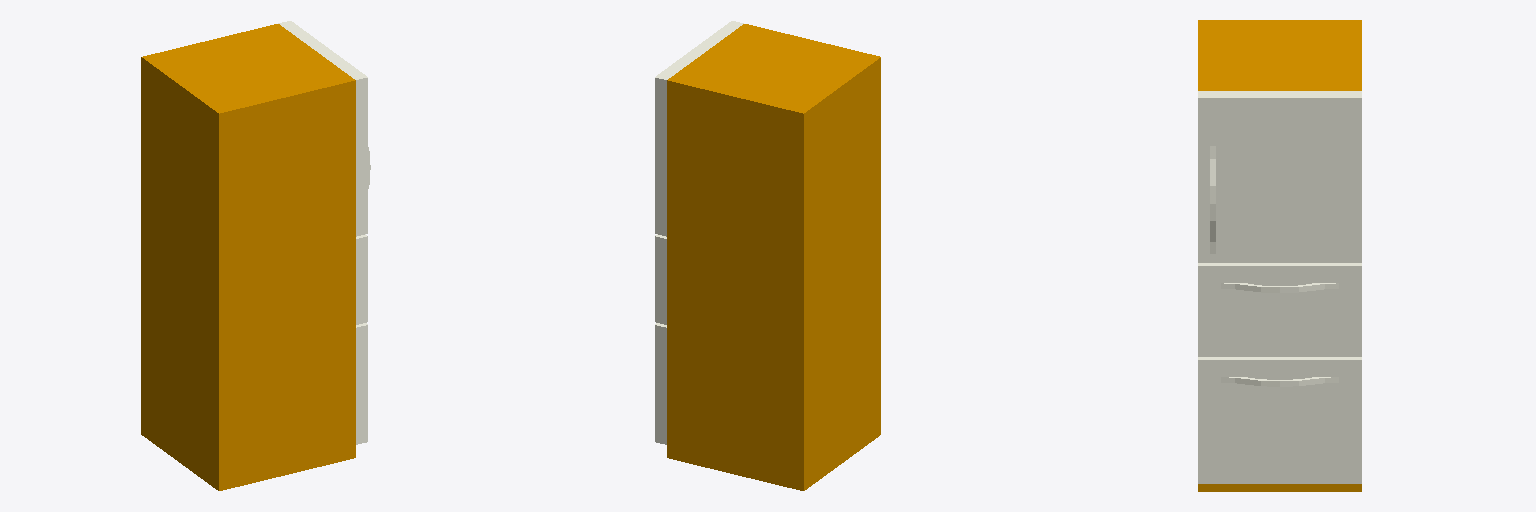
The robot description file, URDF, robot "room73b2-hitachi-fiesta-refrigerator_fixed":
<?xml version="1.0"?>
<robot name="room73b2-hitachi-fiesta-refrigerator_fixed"
       xmlns:xi="http://www.w3.org/2001/XInclude">
  <gazebo>
    <static>false</static>
  </gazebo>
  <link name="ROOT_link">
    <visual>
      <origin xyz="0 0 0" rpy="0 -0 0"/>
      <geometry>
        <mesh filename="meshes/ROOT_link_mesh.obj" scale="1 1 1" />
      </geometry>
    </visual>
    <collision>
      <origin xyz="0 0 0" rpy="0 -0 0"/>
      <geometry>
        <mesh filename="meshes/ROOT_link_mesh.obj" scale="1 1 1" />
      </geometry>
    </collision>
    <inertial>
      <mass value="0.001" />
      <origin xyz="0 0 0" rpy="0 -0 0"/>
      <inertia ixx="1e-03" ixy="0" ixz="0" iyy="1e-03" iyz="0" izz="1e-03"/>
    </inertial>
  </link>
  <gazebo reference="ROOT_link">
    <mu1>0.9</mu1>
    <mu2>0.9</mu2>
  </gazebo>
  <link name="ROOM73B2-HITACHI-FIESTA-REFRIGERATOR-BODYSET7_link">
    <visual>
      <origin xyz="0.3 0.245 0.85" rpy="0 -0 0"/>
      <geometry>
        <mesh filename="meshes/ROOM73B2-HITACHI-FIESTA-REFRIGERATOR-BODYSET7_link_mesh.dae" scale="1 1 1" />
      </geometry>
    </visual>
    <collision>
      <origin xyz="0.3 0.245 0.85" rpy="0 -0 0"/>
      <geometry>
        <mesh filename="meshes/ROOM73B2-HITACHI-FIESTA-REFRIGERATOR-BODYSET7_link_mesh.dae" scale="1 1 1" />
      </geometry>
    </collision>
    <inertial>
      <mass value="0.001" />
      <origin xyz="0 0 0" rpy="0 -0 0"/>
      <inertia ixx="1e-03" ixy="0" ixz="0" iyy="1e-03" iyz="0" izz="1e-03"/>
    </inertial>
  </link>
  <gazebo reference="ROOM73B2-HITACHI-FIESTA-REFRIGERATOR-BODYSET7_link">
    <mu1>0.9</mu1>
    <mu2>0.9</mu2>
  </gazebo>
  <link name="ROOM73B2-HITACHI-FIESTA-REFRIGERATOR-BODYSET6_link">
    <visual>
      <origin xyz="0.05 0 0.66" rpy="0 -0 0"/>
      <geometry>
        <mesh filename="meshes/ROOM73B2-HITACHI-FIESTA-REFRIGERATOR-BODYSET6_link_mesh.dae" scale="1 1 1" />
      </geometry>
    </visual>
    <collision>
      <origin xyz="0.05 0 0.66" rpy="0 -0 0"/>
      <geometry>
        <mesh filename="meshes/ROOM73B2-HITACHI-FIESTA-REFRIGERATOR-BODYSET6_link_mesh.dae" scale="1 1 1" />
      </geometry>
    </collision>
    <inertial>
      <mass value="0.001" />
      <origin xyz="0 0 0" rpy="0 -0 0"/>
      <inertia ixx="1e-03" ixy="0" ixz="0" iyy="1e-03" iyz="0" izz="1e-03"/>
    </inertial>
  </link>
  <gazebo reference="ROOM73B2-HITACHI-FIESTA-REFRIGERATOR-BODYSET6_link">
    <mu1>0.9</mu1>
    <mu2>0.9</mu2>
  </gazebo>
  <link name="ROOM73B2-HITACHI-FIESTA-REFRIGERATOR-BODYSET5_link">
    <visual>
      <origin xyz="0.06 0 0.24" rpy="0 -0 0"/>
      <geometry>
        <mesh filename="meshes/ROOM73B2-HITACHI-FIESTA-REFRIGERATOR-BODYSET5_link_mesh.dae" scale="1 1 1" />
      </geometry>
    </visual>
    <collision>
      <origin xyz="0.06 0 0.24" rpy="0 -0 0"/>
      <geometry>
        <mesh filename="meshes/ROOM73B2-HITACHI-FIESTA-REFRIGERATOR-BODYSET5_link_mesh.dae" scale="1 1 1" />
      </geometry>
    </collision>
    <inertial>
      <mass value="0.001" />
      <origin xyz="0 0 0" rpy="0 -0 0"/>
      <inertia ixx="1e-03" ixy="0" ixz="0" iyy="1e-03" iyz="0" izz="1e-03"/>
    </inertial>
  </link>
  <gazebo reference="ROOM73B2-HITACHI-FIESTA-REFRIGERATOR-BODYSET5_link">
    <mu1>0.9</mu1>
    <mu2>0.9</mu2>
  </gazebo>
  <link name="ROOM73B2-HITACHI-FIESTA-REFRIGERATOR-BODYSET4_link">
    <visual>
      <origin xyz="-0.095 0 1.275" rpy="0 -0 0"/>
      <geometry>
        <mesh filename="meshes/ROOM73B2-HITACHI-FIESTA-REFRIGERATOR-BODYSET4_link_mesh.dae" scale="1 1 1" />
      </geometry>
    </visual>
    <collision>
      <origin xyz="-0.095 0 1.275" rpy="0 -0 0"/>
      <geometry>
        <mesh filename="meshes/ROOM73B2-HITACHI-FIESTA-REFRIGERATOR-BODYSET4_link_mesh.dae" scale="1 1 1" />
      </geometry>
    </collision>
    <inertial>
      <mass value="0.001" />
      <origin xyz="0 0 0" rpy="0 -0 0"/>
      <inertia ixx="1e-03" ixy="0" ixz="0" iyy="1e-03" iyz="0" izz="1e-03"/>
    </inertial>
  </link>
  <gazebo reference="ROOM73B2-HITACHI-FIESTA-REFRIGERATOR-BODYSET4_link">
    <mu1>0.9</mu1>
    <mu2>0.9</mu2>
  </gazebo>
  <link name="ROOM73B2-HITACHI-FIESTA-REFRIGERATOR-BODYSET3_link">
    <visual>
      <origin xyz="-0.095 0 1.085" rpy="0 -0 0"/>
      <geometry>
        <mesh filename="meshes/ROOM73B2-HITACHI-FIESTA-REFRIGERATOR-BODYSET3_link_mesh.dae" scale="1 1 1" />
      </geometry>
    </visual>
    <collision>
      <origin xyz="-0.095 0 1.085" rpy="0 -0 0"/>
      <geometry>
        <mesh filename="meshes/ROOM73B2-HITACHI-FIESTA-REFRIGERATOR-BODYSET3_link_mesh.dae" scale="1 1 1" />
      </geometry>
    </collision>
    <inertial>
      <mass value="0.001" />
      <origin xyz="0 0 0" rpy="0 -0 0"/>
      <inertia ixx="1e-03" ixy="0" ixz="0" iyy="1e-03" iyz="0" izz="1e-03"/>
    </inertial>
  </link>
  <gazebo reference="ROOM73B2-HITACHI-FIESTA-REFRIGERATOR-BODYSET3_link">
    <mu1>0.9</mu1>
    <mu2>0.9</mu2>
  </gazebo>
  <link name="ROOM73B2-HITACHI-FIESTA-REFRIGERATOR-BODYSET2_link">
    <visual>
      <origin xyz="-0.095 0 0.935" rpy="0 -0 0"/>
      <geometry>
        <mesh filename="meshes/ROOM73B2-HITACHI-FIESTA-REFRIGERATOR-BODYSET2_link_mesh.dae" scale="1 1 1" />
      </geometry>
    </visual>
    <collision>
      <origin xyz="-0.095 0 0.935" rpy="0 -0 0"/>
      <geometry>
        <mesh filename="meshes/ROOM73B2-HITACHI-FIESTA-REFRIGERATOR-BODYSET2_link_mesh.dae" scale="1 1 1" />
      </geometry>
    </collision>
    <inertial>
      <mass value="0.001" />
      <origin xyz="0 0 0" rpy="0 -0 0"/>
      <inertia ixx="1e-03" ixy="0" ixz="0" iyy="1e-03" iyz="0" izz="1e-03"/>
    </inertial>
  </link>
  <gazebo reference="ROOM73B2-HITACHI-FIESTA-REFRIGERATOR-BODYSET2_link">
    <mu1>0.9</mu1>
    <mu2>0.9</mu2>
  </gazebo>
  <joint name="DOOR1" type="revolute">
    <parent link="ROOT_link"/>
    <child  link="ROOM73B2-HITACHI-FIESTA-REFRIGERATOR-BODYSET7_link"/>
    <origin xyz="0.3 0.245 0.85" rpy="0 -0 0 "/>
    <axis   xyz="0 0 1"/>
    <limit lower="0" upper="1.5708" effort="100" velocity="0.5" />
    <dynamics damping="0.2" friction="0" />
  </joint>
  <joint name="DRAWER1" type="prismatic">
    <parent link="ROOT_link"/>
    <child  link="ROOM73B2-HITACHI-FIESTA-REFRIGERATOR-BODYSET6_link"/>
    <origin xyz="0.05 0 0.66" rpy="0 -0 0 "/>
    <axis   xyz="1 0 0"/>
    <limit lower="0" upper="0.55" effort="100" velocity="0.01" />
    <dynamics damping="0.2" friction="0" />
  </joint>
  <joint name="DRAWER2" type="prismatic">
    <parent link="ROOT_link"/>
    <child  link="ROOM73B2-HITACHI-FIESTA-REFRIGERATOR-BODYSET5_link"/>
    <origin xyz="0.06 0 0.24" rpy="0 -0 0 "/>
    <axis   xyz="1 0 0"/>
    <limit lower="0" upper="0.55" effort="100" velocity="0.01" />
    <dynamics damping="0.2" friction="0" />
  </joint>
  <joint name="SHELF1" type="prismatic">
    <parent link="ROOT_link"/>
    <child  link="ROOM73B2-HITACHI-FIESTA-REFRIGERATOR-BODYSET4_link"/>
    <origin xyz="-0.095 0 1.275" rpy="0 -0 0 "/>
    <axis   xyz="1 0 0"/>
    <limit lower="0" upper="0.3" effort="100" velocity="0.01" />
    <dynamics damping="0.2" friction="0" />
  </joint>
  <joint name="SHELF2" type="prismatic">
    <parent link="ROOT_link"/>
    <child  link="ROOM73B2-HITACHI-FIESTA-REFRIGERATOR-BODYSET3_link"/>
    <origin xyz="-0.095 0 1.085" rpy="0 -0 0 "/>
    <axis   xyz="1 0 0"/>
    <limit lower="0" upper="0.3" effort="100" velocity="0.01" />
    <dynamics damping="0.2" friction="0" />
  </joint>
  <joint name="SHELF3" type="prismatic">
    <parent link="ROOT_link"/>
    <child  link="ROOM73B2-HITACHI-FIESTA-REFRIGERATOR-BODYSET2_link"/>
    <origin xyz="-0.095 0 0.935" rpy="0 -0 0 "/>
    <axis   xyz="1 0 0"/>
    <limit lower="0" upper="0.3" effort="100" velocity="0.01" />
    <dynamics damping="0.2" friction="0" />
  </joint>
  <!-- Used for fixing robot to Gazebo 'base_link' -->
  <link name="world"/>
  <joint name="fixed" type="fixed">
    <parent link="world"/>
    <child link="ROOT_link"/>
  </joint>
</robot>

--- Render facts (derived) ---
The picture shows the robot from 3 angles, left to right: view 1: azimuth 30°, elevation 25°; view 2: azimuth 150°, elevation 25°; view 3: azimuth 270°, elevation 25°; orthographic projection.
Model room73b2-hitachi-fiesta-refrigerator_fixed with 8 links and 7 joints (1 revolute, 5 prismatic, 1 fixed), rooted at world, posed all joints at 0.
Links seen in each view (by area): view 1: ROOT_link, ROOM73B2-HITACHI-FIESTA-REFRIGERATOR-BODYSET7_link, ROOM73B2-HITACHI-FIESTA-REFRIGERATOR-BODYSET5_link, ROOM73B2-HITACHI-FIESTA-REFRIGERATOR-BODYSET6_link; view 2: ROOT_link, ROOM73B2-HITACHI-FIESTA-REFRIGERATOR-BODYSET7_link, ROOM73B2-HITACHI-FIESTA-REFRIGERATOR-BODYSET5_link, ROOM73B2-HITACHI-FIESTA-REFRIGERATOR-BODYSET6_link; view 3: ROOM73B2-HITACHI-FIESTA-REFRIGERATOR-BODYSET7_link, ROOM73B2-HITACHI-FIESTA-REFRIGERATOR-BODYSET5_link, ROOM73B2-HITACHI-FIESTA-REFRIGERATOR-BODYSET6_link, ROOT_link.
Link boxes in pixels (x1,y1,x2,y2): ROOT_link: (141,24,355,490); ROOM73B2-HITACHI-FIESTA-REFRIGERATOR-BODYSET7_link: (278,21,370,236); ROOM73B2-HITACHI-FIESTA-REFRIGERATOR-BODYSET5_link: (356,323,367,444); ROOM73B2-HITACHI-FIESTA-REFRIGERATOR-BODYSET6_link: (356,234,367,324); ROOT_link: (667,24,880,490); ROOM73B2-HITACHI-FIESTA-REFRIGERATOR-BODYSET7_link: (655,21,743,236); ROOM73B2-HITACHI-FIESTA-REFRIGERATOR-BODYSET5_link: (655,323,666,444); ROOM73B2-HITACHI-FIESTA-REFRIGERATOR-BODYSET6_link: (655,234,666,324); ROOM73B2-HITACHI-FIESTA-REFRIGERATOR-BODYSET7_link: (1198,91,1361,262); ROOM73B2-HITACHI-FIESTA-REFRIGERATOR-BODYSET5_link: (1198,357,1361,483); ROOM73B2-HITACHI-FIESTA-REFRIGERATOR-BODYSET6_link: (1198,263,1361,356); ROOT_link: (1198,20,1361,491).
Size in the robot's own frame: 0.6372 by 0.54 by 1.45 metres.
Meshes: 7 distinct files referenced, 7 mesh visuals loaded (6 Collada DAE, 1 OBJ).